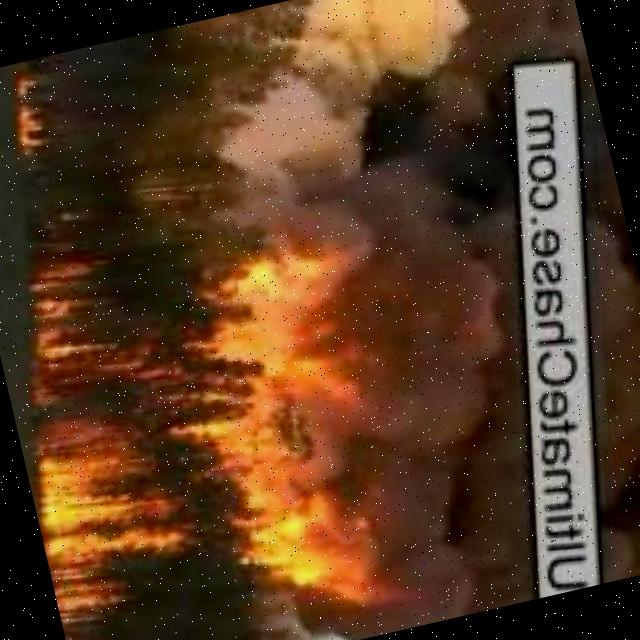fire: (158, 230, 446, 629), (0, 231, 204, 640), (9, 67, 54, 144)
